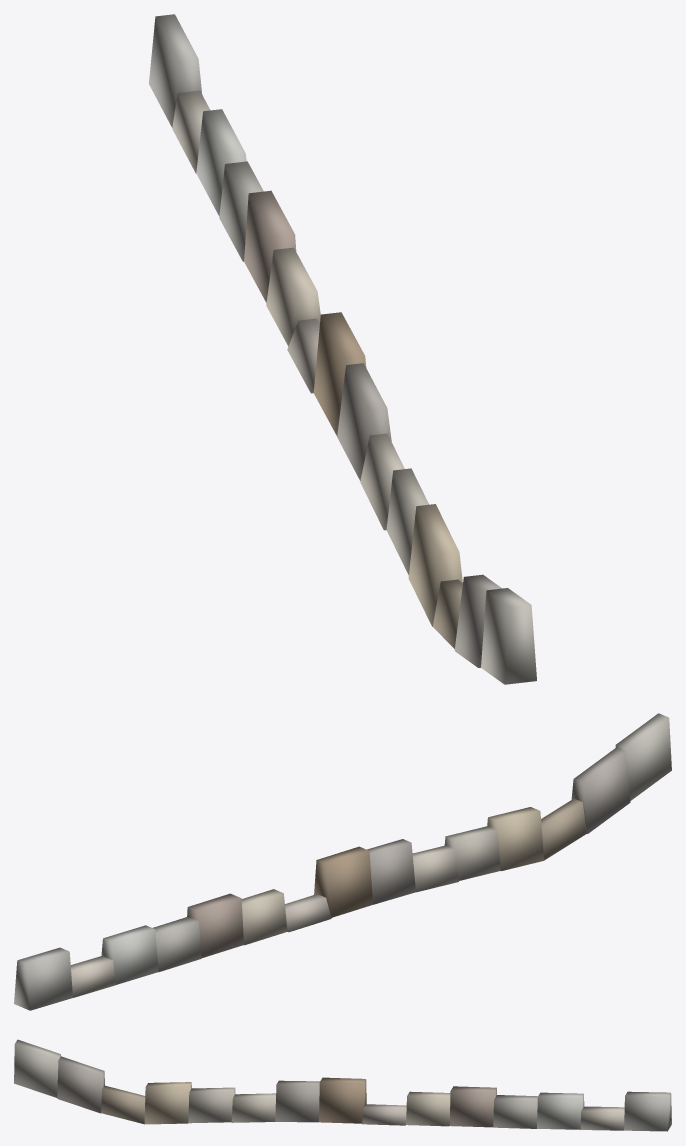
The model's file is farm_-62_-52_collision.glb.
3 renders of one model, top to bottom at view 1: azimuth 30°, elevation 25°; view 2: azimuth 150°, elevation 25°; view 3: azimuth 270°, elevation 25°, orthographic. The views are drawn at different scales.
Parts seen in each view (by area): view 1: geometry_0; view 2: geometry_0; view 3: geometry_0.
Boxes of the visible parts, <box> form: geometry_0: <box>149,14,536,684</box>; geometry_0: <box>14,713,671,1010</box>; geometry_0: <box>14,1039,671,1131</box>.
Size of the model in its own units: 6.66 by 3.29 by 23.27.
